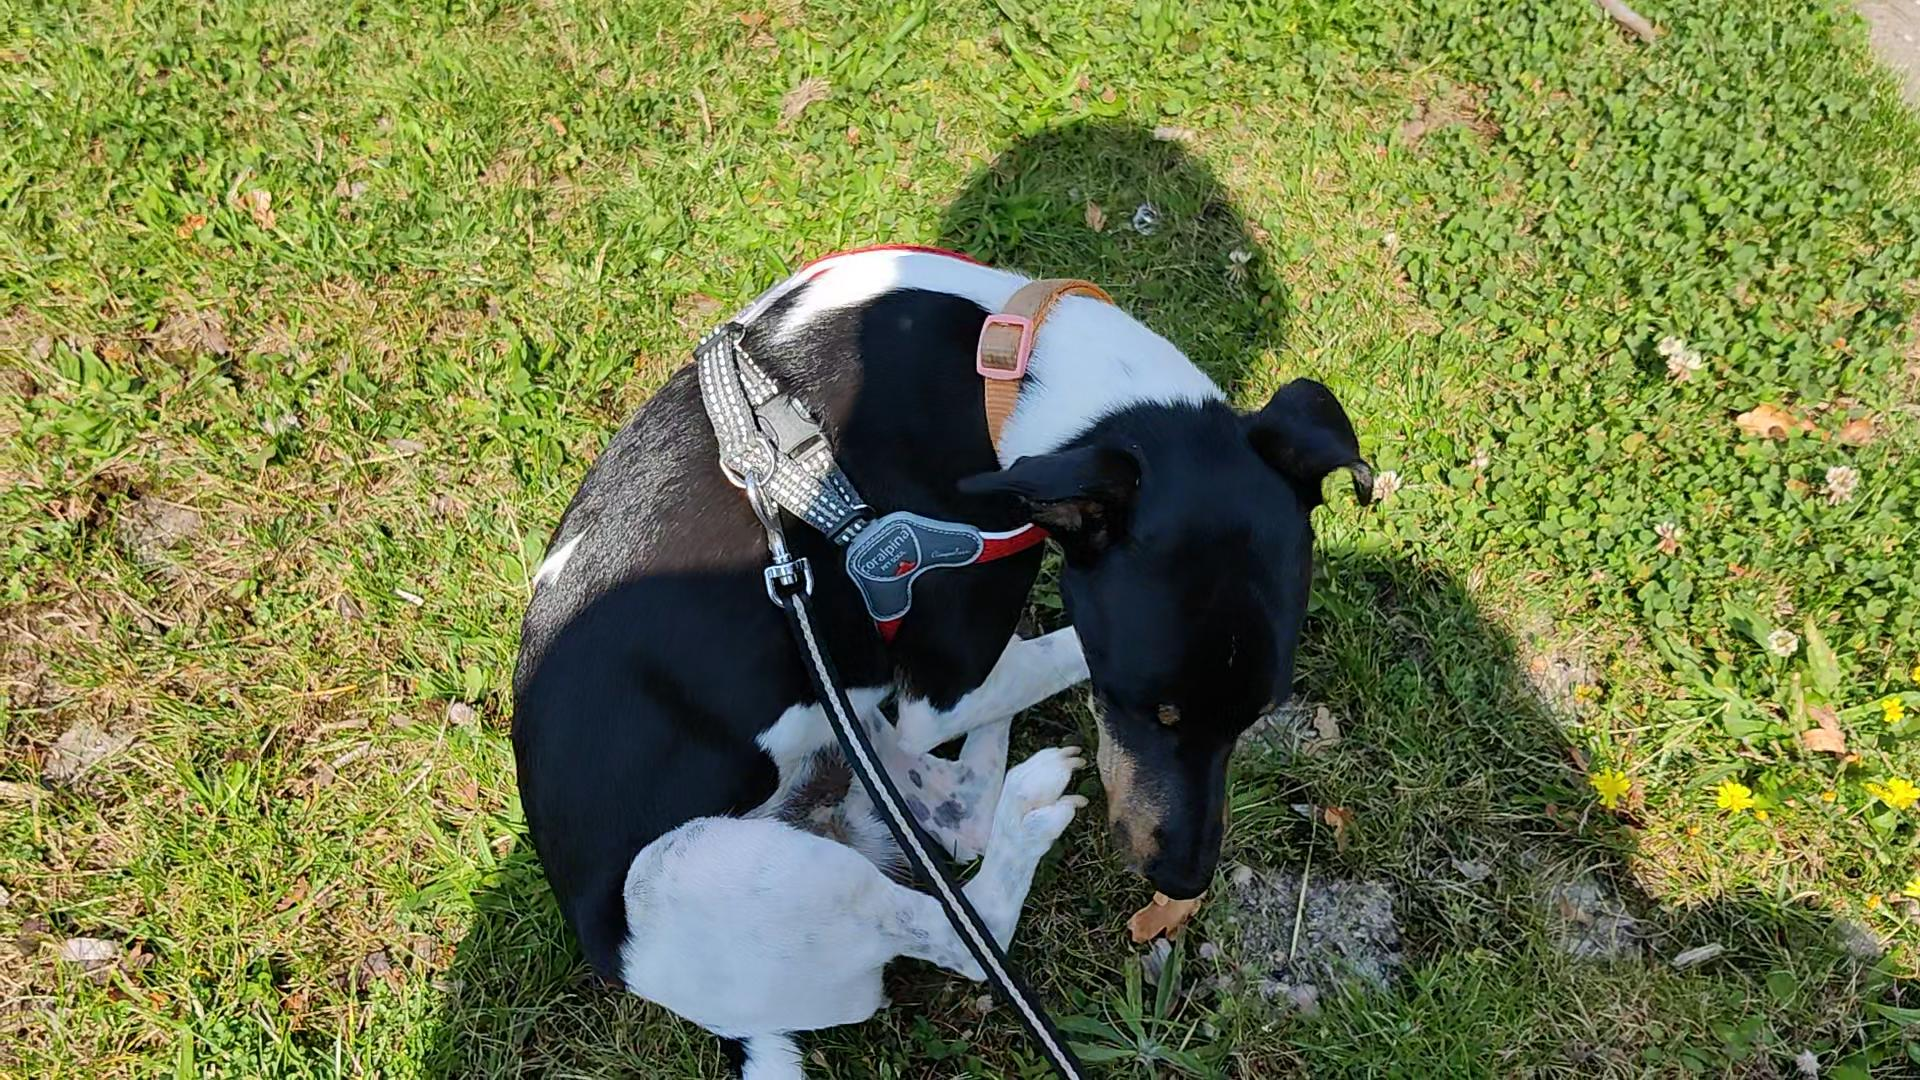Dog: (498, 235, 1379, 1079)
